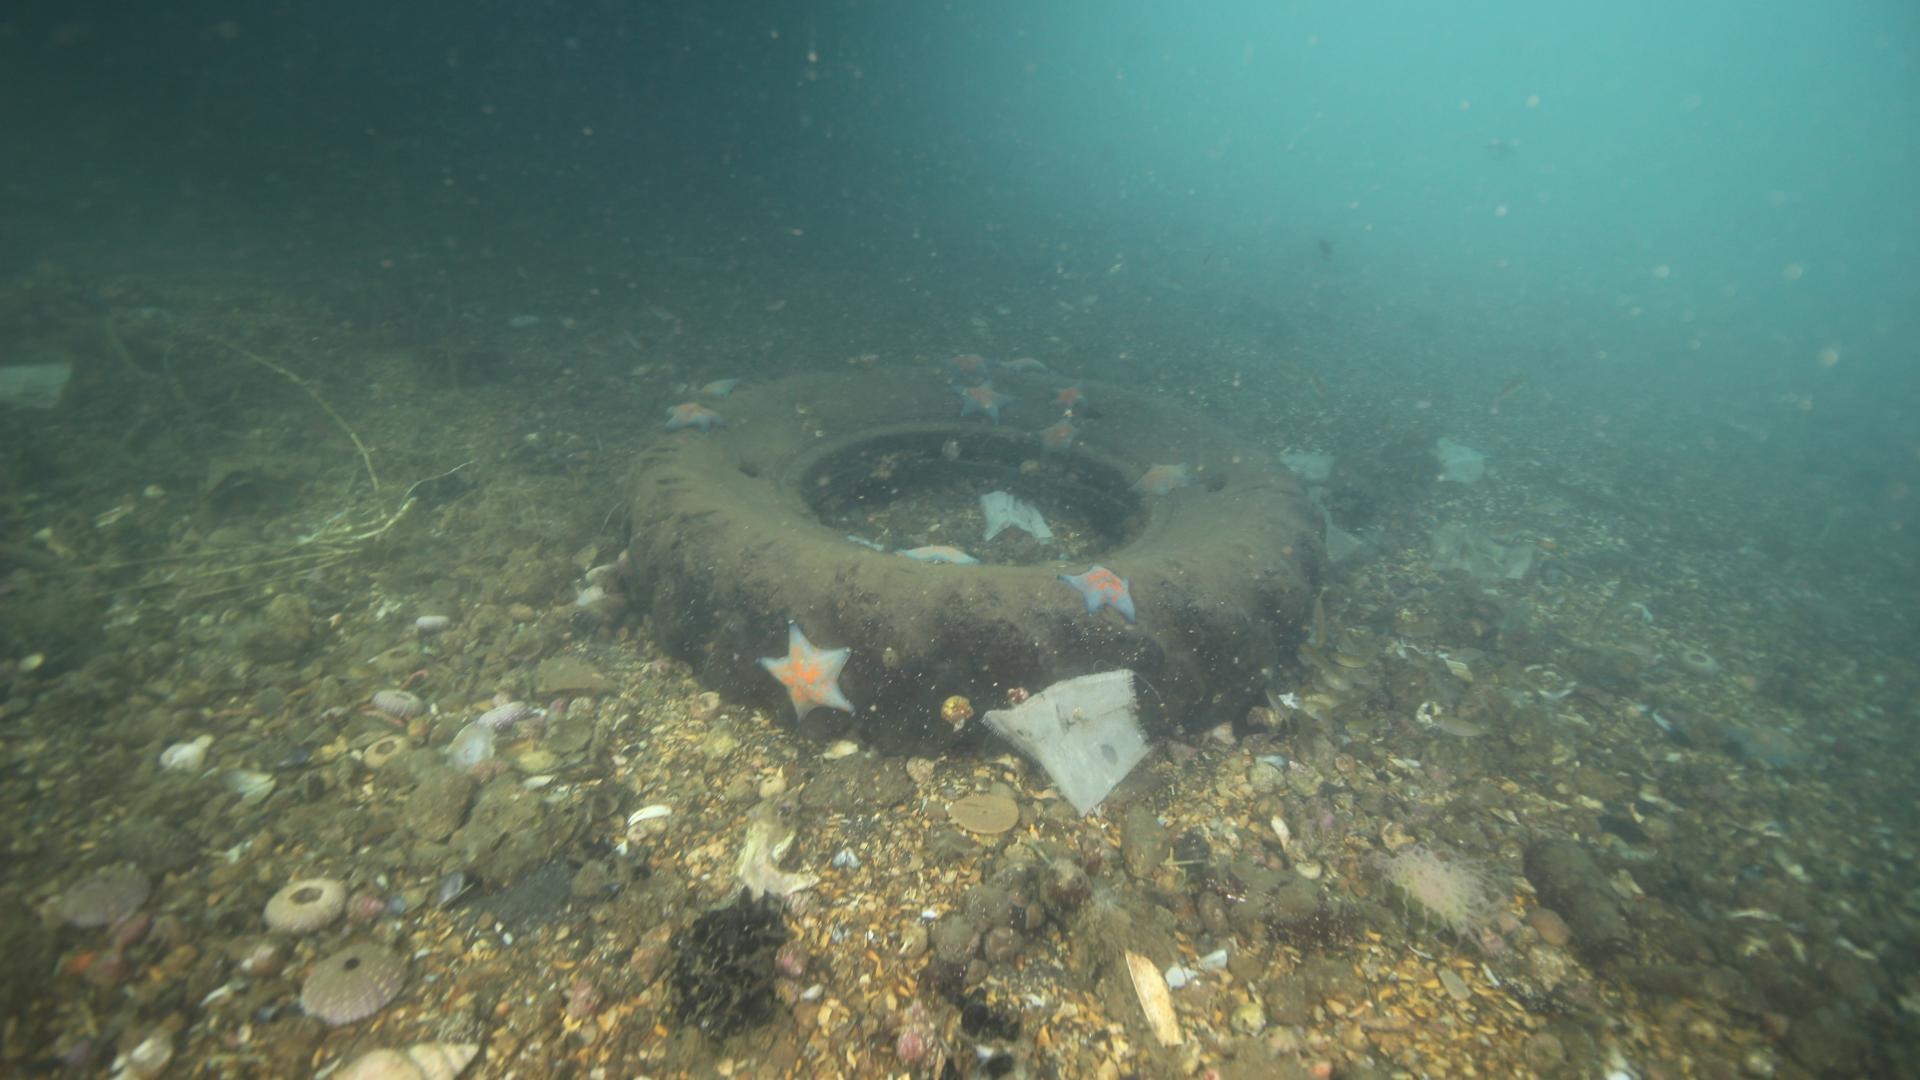tire: (617, 359, 1329, 757)
